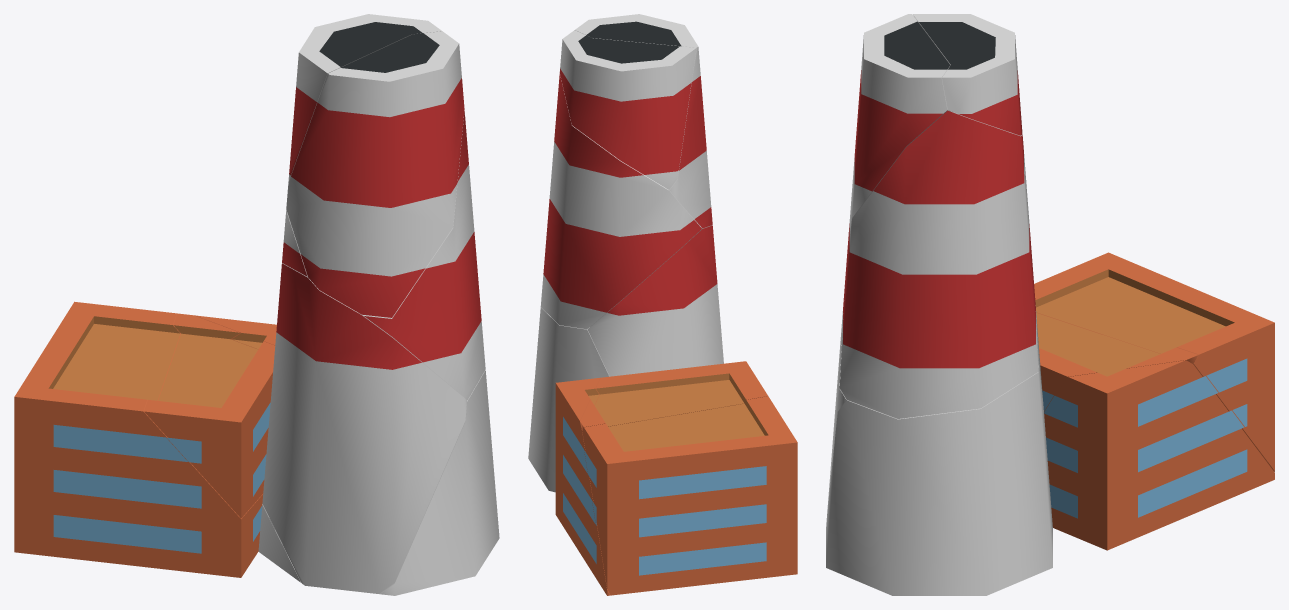
Rendered from Factory 2_cell.fbx.
3 renders of one model, left to right at view 1: azimuth 30°, elevation 25°; view 2: azimuth 150°, elevation 25°; view 3: azimuth 270°, elevation 25°, orthographic. The views are drawn at different scales.
Parts seen in each view (by area): view 1: Factory_cell.007, Factory_cell.005, Factory_cell.003, Factory_cell.001, Factory_cell.006, Factory_cell.002, Factory_cell.004; view 2: Factory_cell.007, Factory_cell.002, Factory_cell.004, Factory_cell.005, Factory_cell.006, Factory_cell.001, Factory_cell.003; view 3: Factory_cell.006, Factory_cell.002, Factory_cell.007, Factory_cell.003, Factory_cell.004, Factory_cell.001, Factory_cell.005.
Part boxes in pixels (box(x1,y1,x2,y2)): Factory_cell.007: box(14, 301, 301, 582); Factory_cell.005: box(262, 263, 467, 593); Factory_cell.003: box(286, 31, 464, 317); Factory_cell.001: box(144, 313, 275, 518); Factory_cell.006: box(194, 315, 499, 595); Factory_cell.002: box(282, 110, 485, 400); Factory_cell.004: box(288, 14, 442, 182); Factory_cell.007: box(582, 396, 797, 595); Factory_cell.002: box(540, 73, 702, 329); Factory_cell.004: box(559, 30, 696, 189); Factory_cell.005: box(587, 225, 723, 376); Factory_cell.006: box(528, 307, 610, 595); Factory_cell.001: box(580, 361, 767, 430); Factory_cell.003: box(575, 14, 712, 228); Factory_cell.006: box(826, 355, 1274, 595); Factory_cell.002: box(839, 110, 1038, 418); Factory_cell.007: box(1034, 252, 1274, 471); Factory_cell.003: box(846, 14, 950, 259); Factory_cell.004: box(913, 14, 1022, 135); Factory_cell.001: box(1036, 313, 1198, 414); Factory_cell.005: box(827, 280, 1042, 510).
Bounding box in the file's own units: 191 × 240 × 194.
